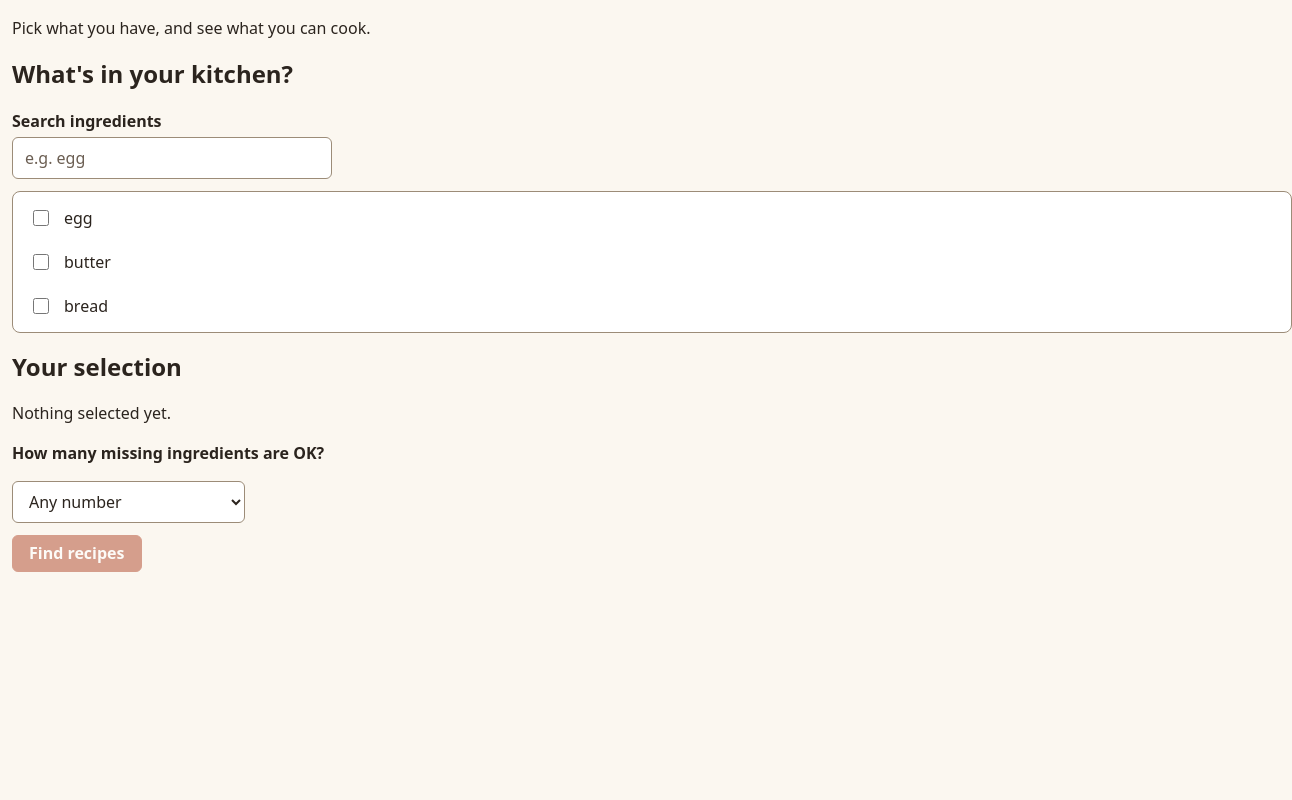
Test: HomePage with the real search hook › clears the selection and disables the button again
What coordinates should you click on to do the following:
click the checkbox labelled "egg"
I would click on:
 (41, 218)
Its box is [33,210,49,226].
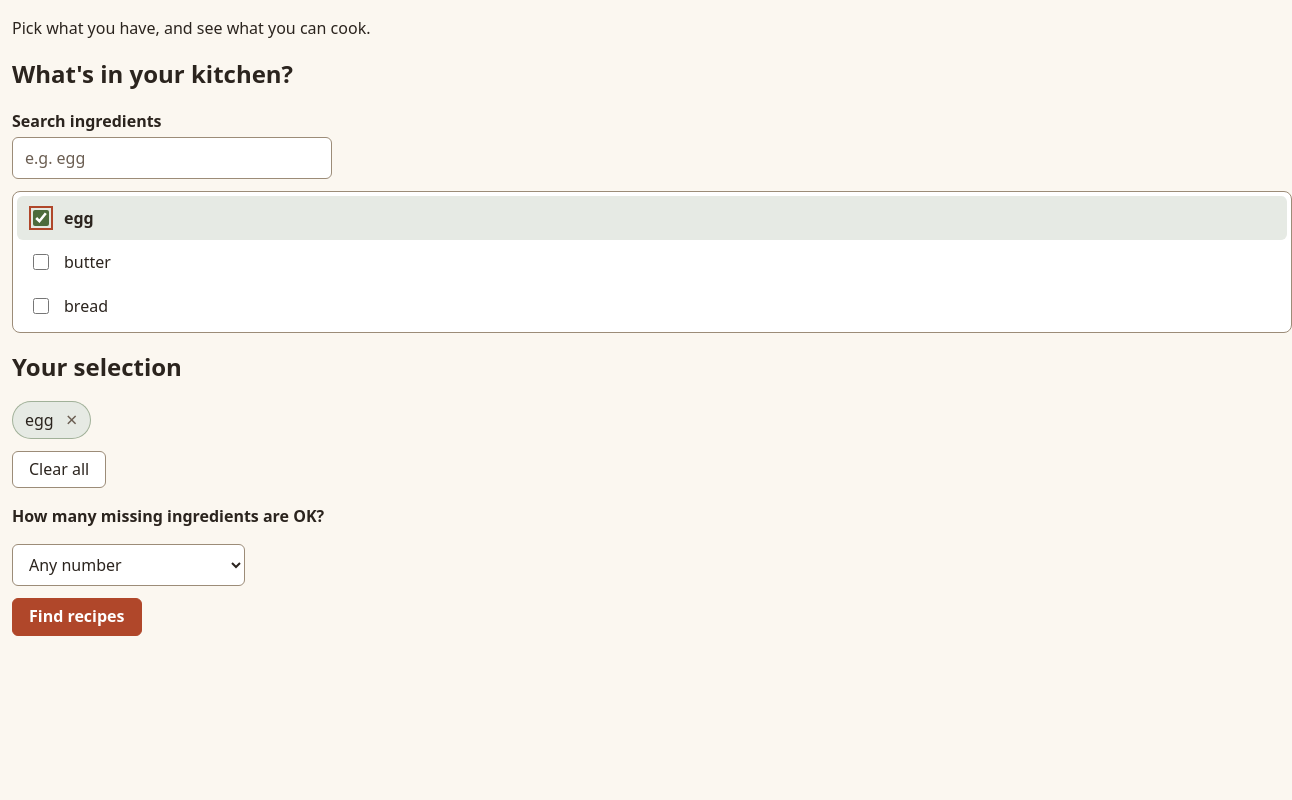
Result: the button "Find recipes" is enabled at [12,598,142,636]
What coordinates should you click on to do the following:
click the button "Clear all"
I would click on:
 (59, 470)
Its box is [12,451,106,488].
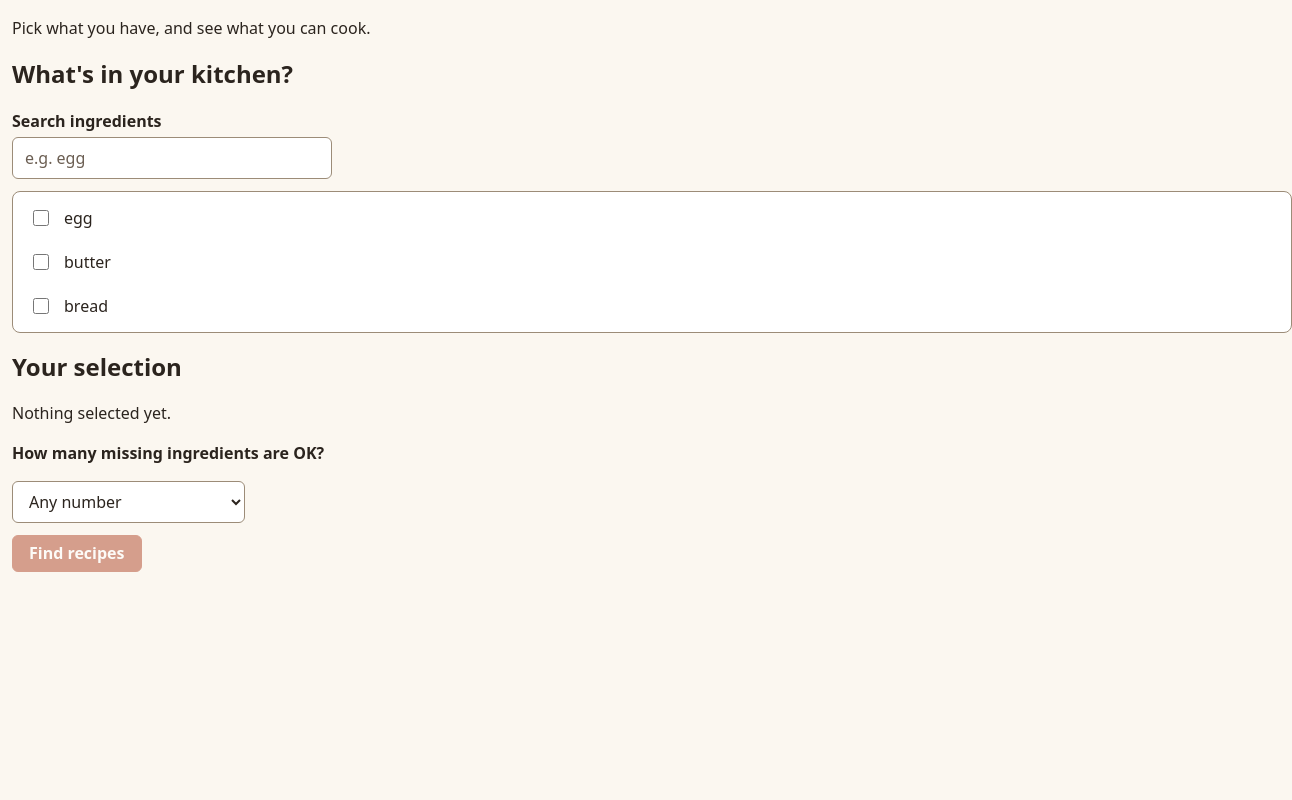
Result: the checkbox labelled "egg" is not checked at [33,210,49,226]
Result: the text "Nothing selected yet." is shown at [12,402,171,424]
Result: the button "Find recipes" is disabled at [12,535,142,572]
